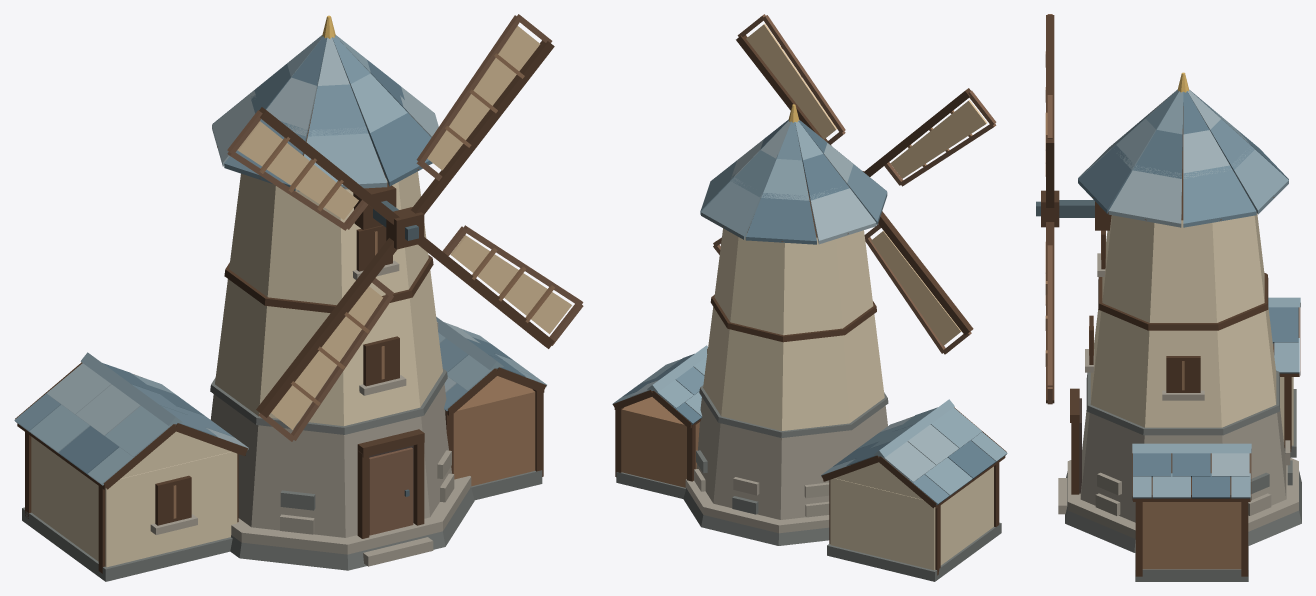
File: ENV_Civic_mill_LOD1.glb
3 views of the same model, side by side, from view 1: azimuth 30°, elevation 25°; view 2: azimuth 150°, elevation 25°; view 3: azimuth 270°, elevation 25° (orthographic). The views are drawn at different scales.
Parts seen in each view (by area): view 1: ENV_Civic_mill_LOD1_shell_plasterIvory, ENV_Civic_mill_LOD1_roof_roofTiles, ENV_Civic_mill_LOD1_shell_stone, ENV_Civic_mill_LOD1_stage6_wing_plasterIvory, ENV_Civic_mill_LOD1_mill_sails_plaster, ENV_Civic_mill_LOD1_stage6_wing_roofTiles, ENV_Civic_mill_LOD1_mill_sails_woodDark, ENV_Civic_mill_LOD1_shell_woodDark, ENV_Civic_mill_LOD1_stage5_shed_woodLight, ENV_Civic_mill_LOD1_mill_sails_wood, ENV_Civic_mill_LOD1_stage6_wing_woodDark, ENV_Civic_mill_LOD1_foundation_stone (+8 smaller); view 2: ENV_Civic_mill_LOD1_shell_plasterIvory, ENV_Civic_mill_LOD1_roof_roofTiles, ENV_Civic_mill_LOD1_shell_stone, ENV_Civic_mill_LOD1_stage6_wing_plasterIvory, ENV_Civic_mill_LOD1_stage6_wing_roofTiles, ENV_Civic_mill_LOD1_mill_sails_plaster, ENV_Civic_mill_LOD1_stage5_shed_woodLight, ENV_Civic_mill_LOD1_mill_sails_woodDark, ENV_Civic_mill_LOD1_mill_sails_wood, ENV_Civic_mill_LOD1_stage5_shed_roofTiles, ENV_Civic_mill_LOD1_shell_stoneDark, ENV_Civic_mill_LOD1_foundation_stone (+6 smaller); view 3: ENV_Civic_mill_LOD1_shell_plasterIvory, ENV_Civic_mill_LOD1_roof_roofTiles, ENV_Civic_mill_LOD1_shell_stone, ENV_Civic_mill_LOD1_stage5_shed_woodLight, ENV_Civic_mill_LOD1_stage5_shed_roofTiles, ENV_Civic_mill_LOD1_shell_woodDark, ENV_Civic_mill_LOD1_mill_sails_woodDark, ENV_Civic_mill_LOD1_foundation_stone, ENV_Civic_mill_LOD1_shell_stoneDark, ENV_Civic_mill_LOD1_stage6_wing_roofTiles, ENV_Civic_mill_LOD1_foundation_stoneDark, ENV_Civic_mill_LOD1_stage5_shed_woodDark (+5 smaller).
Boxes of the visible parts, <box> form: ENV_Civic_mill_LOD1_shell_plasterIvory: <box>215,171,442,426</box>; ENV_Civic_mill_LOD1_roof_roofTiles: <box>212,35,438,191</box>; ENV_Civic_mill_LOD1_shell_stone: <box>210,260,454,566</box>; ENV_Civic_mill_LOD1_stage6_wing_plasterIvory: <box>31,431,237,567</box>; ENV_Civic_mill_LOD1_mill_sails_plaster: <box>237,25,571,429</box>; ENV_Civic_mill_LOD1_stage6_wing_roofTiles: <box>14,352,248,485</box>; ENV_Civic_mill_LOD1_mill_sails_woodDark: <box>256,40,554,417</box>; ENV_Civic_mill_LOD1_shell_woodDark: <box>224,182,433,538</box>; ENV_Civic_mill_LOD1_stage5_shed_woodLight: <box>453,376,535,486</box>; ENV_Civic_mill_LOD1_mill_sails_wood: <box>227,14,583,441</box>; ENV_Civic_mill_LOD1_stage6_wing_woodDark: <box>15,362,248,573</box>; ENV_Civic_mill_LOD1_foundation_stone: <box>231,476,471,554</box>; ENV_Civic_mill_LOD1_shell_plasterIvory: <box>703,228,884,430</box>; ENV_Civic_mill_LOD1_roof_roofTiles: <box>700,119,887,244</box>; ENV_Civic_mill_LOD1_shell_stone: <box>694,348,887,519</box>; ENV_Civic_mill_LOD1_stage6_wing_plasterIvory: <box>830,462,993,570</box>; ENV_Civic_mill_LOD1_stage6_wing_roofTiles: <box>821,399,1007,505</box>; ENV_Civic_mill_LOD1_mill_sails_plaster: <box>746,24,987,345</box>; ENV_Civic_mill_LOD1_stage5_shed_woodLight: <box>621,397,699,487</box>; ENV_Civic_mill_LOD1_mill_sails_woodDark: <box>736,35,973,335</box>; ENV_Civic_mill_LOD1_mill_sails_wood: <box>713,14,996,354</box>; ENV_Civic_mill_LOD1_stage5_shed_roofTiles: <box>612,345,707,424</box>; ENV_Civic_mill_LOD1_shell_stoneDark: <box>696,385,888,514</box>; ENV_Civic_mill_LOD1_foundation_stone: <box>685,479,829,533</box>; ENV_Civic_mill_LOD1_shell_plasterIvory: <box>1090,213,1276,427</box>; ENV_Civic_mill_LOD1_roof_roofTiles: <box>1078,89,1288,227</box>; ENV_Civic_mill_LOD1_shell_stone: <box>1058,253,1290,522</box>; ENV_Civic_mill_LOD1_stage5_shed_woodLight: <box>1142,502,1241,569</box>; ENV_Civic_mill_LOD1_stage5_shed_roofTiles: <box>1132,443,1251,498</box>; ENV_Civic_mill_LOD1_shell_woodDark: <box>1070,201,1268,494</box>; ENV_Civic_mill_LOD1_mill_sails_woodDark: <box>1041,15,1059,403</box>; ENV_Civic_mill_LOD1_foundation_stone: <box>1067,457,1298,538</box>; ENV_Civic_mill_LOD1_shell_stoneDark: <box>1086,370,1292,493</box>; ENV_Civic_mill_LOD1_stage6_wing_roofTiles: <box>1268,297,1300,373</box>; ENV_Civic_mill_LOD1_foundation_stoneDark: <box>1065,471,1301,552</box>; ENV_Civic_mill_LOD1_stage5_shed_woodDark: <box>1132,449,1251,576</box>.
Bounding box in the file's own units: 8.76 × 9.99 × 5.29.
